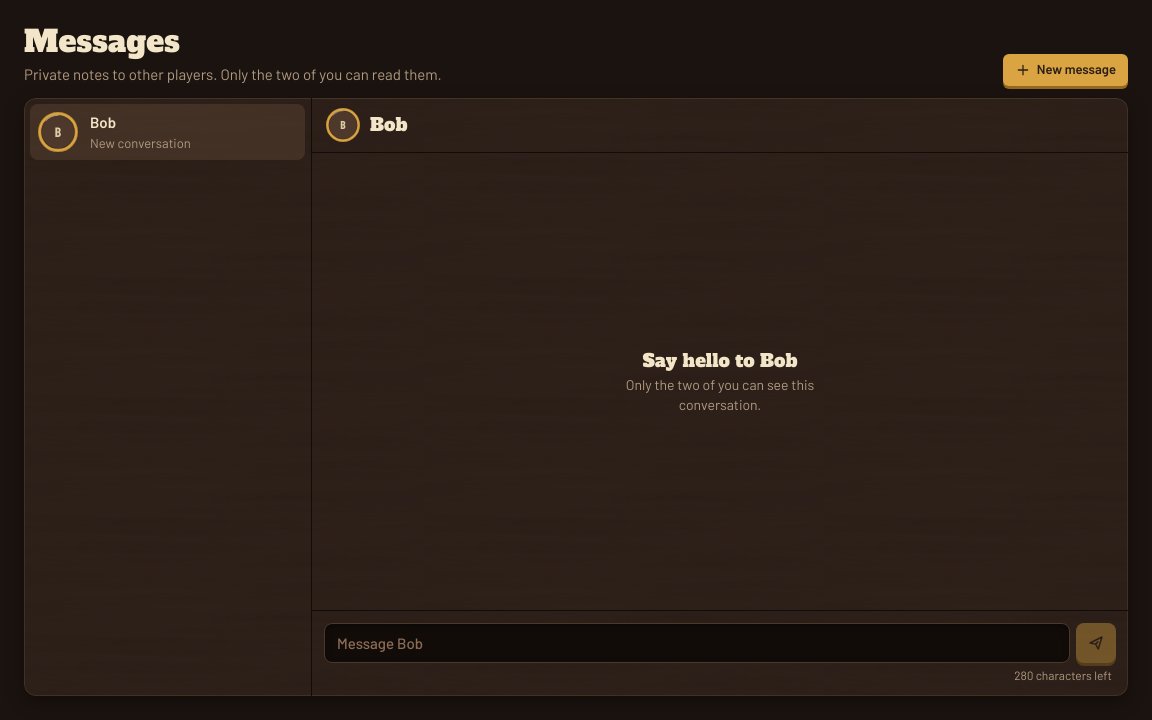
MessagesScreen › shows the server error when a send is refused
In the field labelled "Message Bob": (697, 643) [324, 623, 1070, 663], type "spam"
Then press Enter
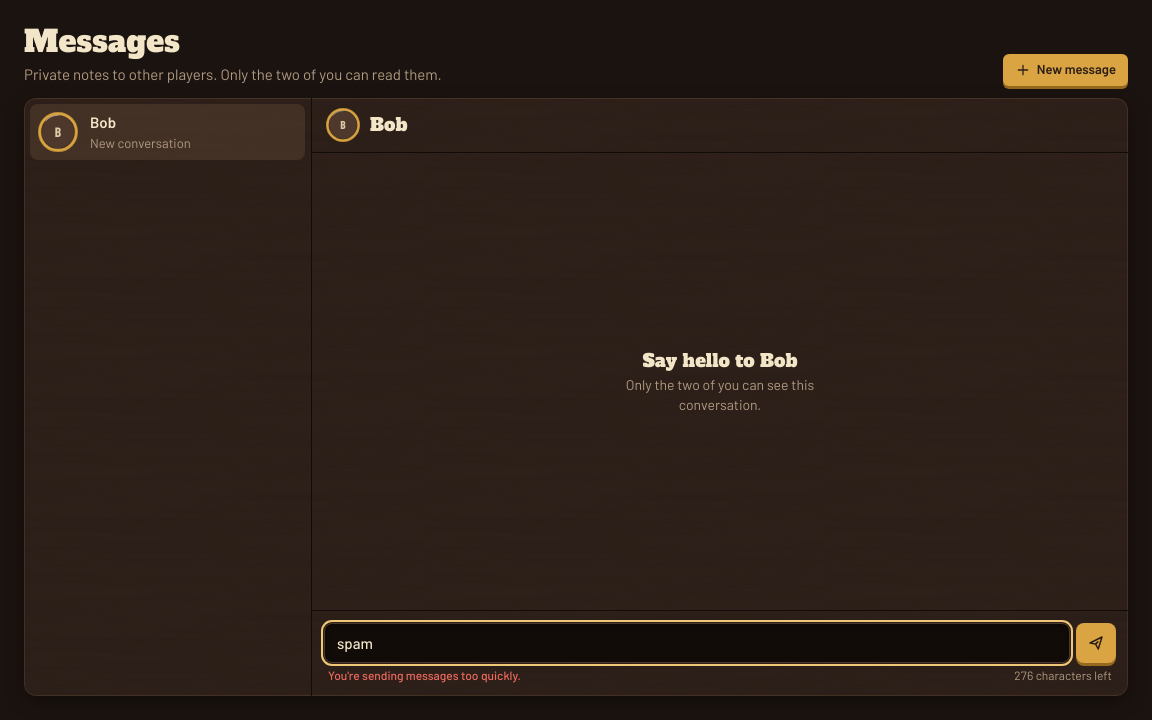
Check: the message reads "You're sending messages too quickly.", box [328, 668, 521, 682]
